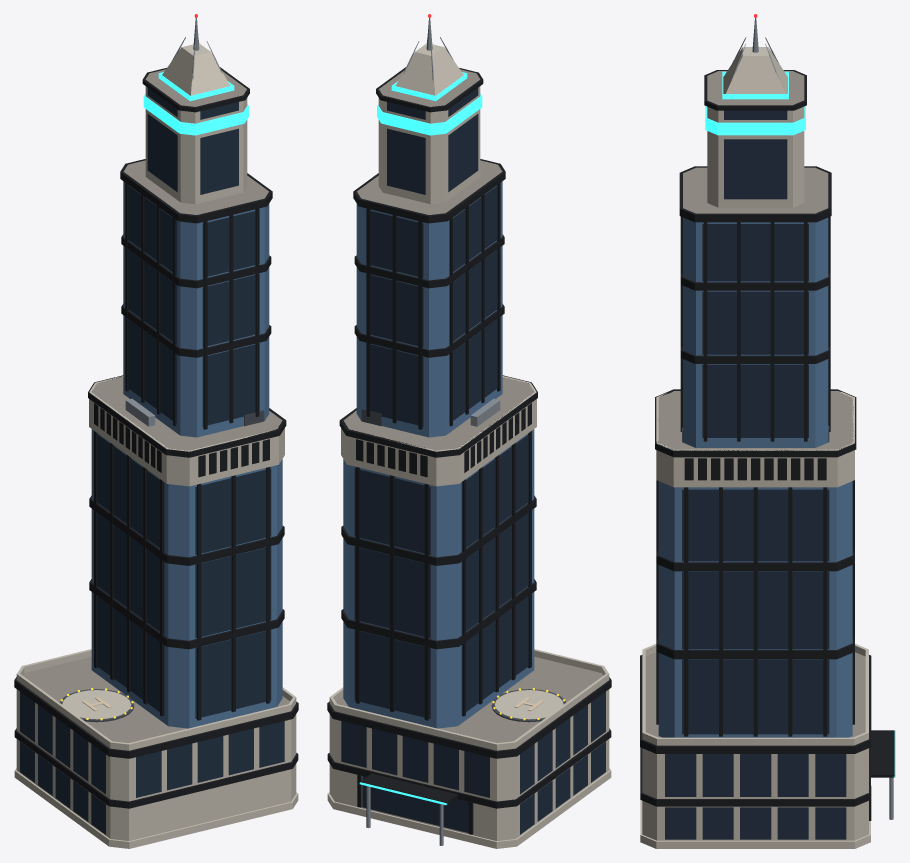
Rendered from tower_a.glb.
3 views of the same model, side by side, from view 1: azimuth 30°, elevation 25°; view 2: azimuth 150°, elevation 25°; view 3: azimuth 270°, elevation 25° (orthographic). The views are drawn at different scales.
Visible parts, largest first — view 1: Body; view 2: Body; view 3: Body.
Part boxes in pixels (<box>): Body: <box>14,14,298,848</box>; Body: <box>327,14,611,848</box>; Body: <box>640,14,895,848</box>.
Size of the model in its own units: 28.6 by 110 by 31.65.
